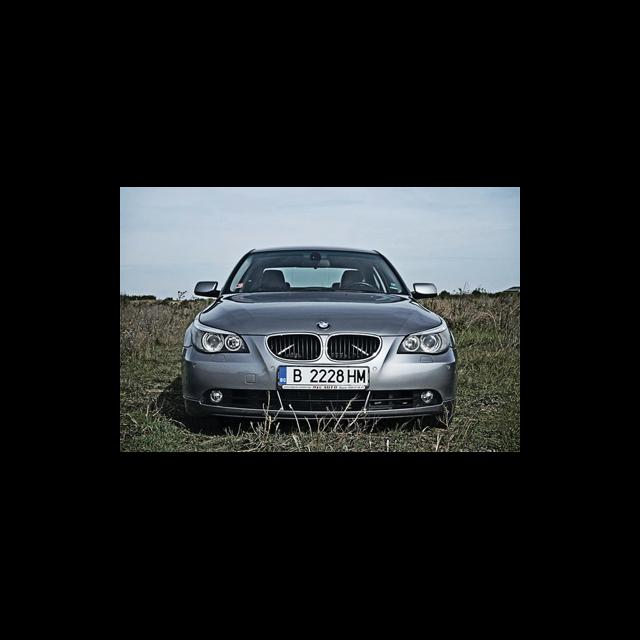Plate: (277, 364, 370, 390)
